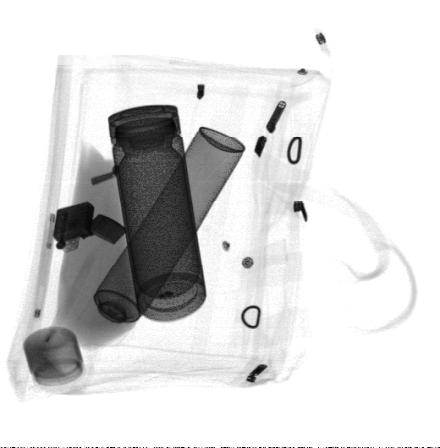Lighter: (55, 201, 126, 254)
Sprayer: (76, 127, 245, 350)
